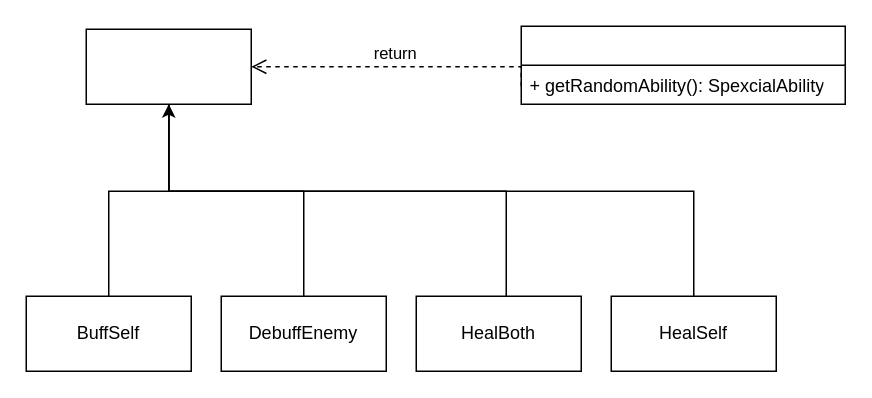
The diagram is 872 pixels wide and 398 high, and some of its shapes have lost their labels. The box of each missing label's shape, as (x1, y1, x2, y2) in pixels:
AbilityCreator: (520, 25, 845, 104)
«interface» SpecialAbility: (85, 28, 251, 104)
